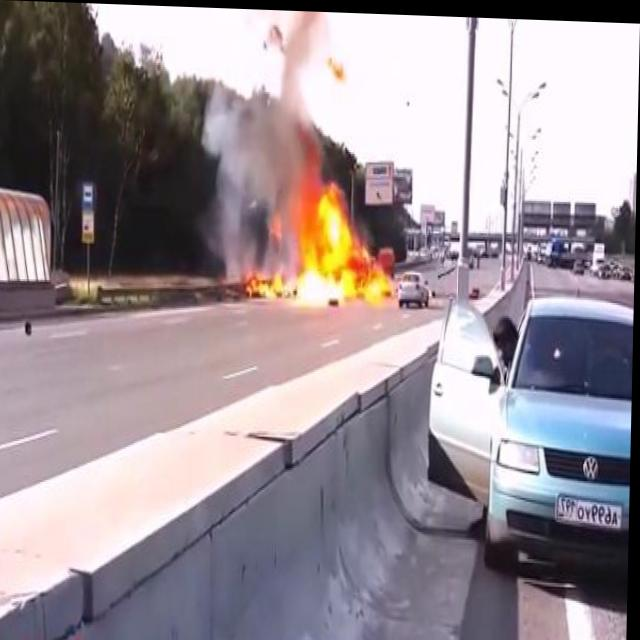fire: (239, 171, 402, 309)
